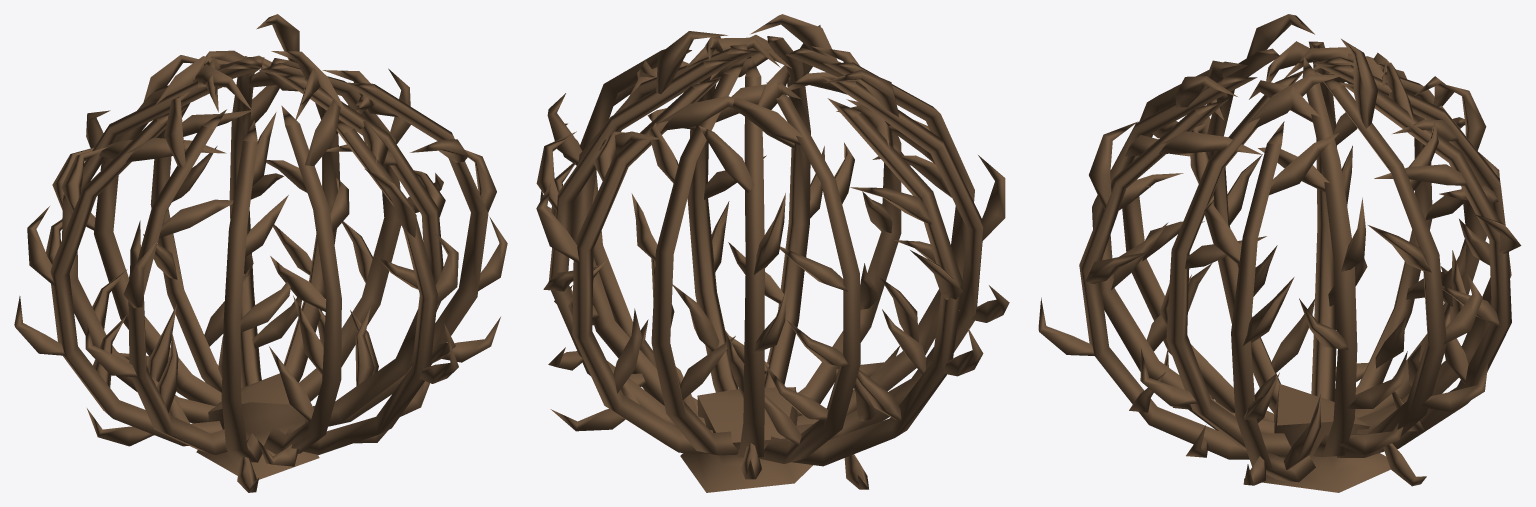
Rendered from SMFol_ThistleBush.fbx.
3 views of the same model, side by side, from view 1: azimuth 30°, elevation 25°; view 2: azimuth 150°, elevation 25°; view 3: azimuth 270°, elevation 25° (orthographic). The views are drawn at different scales.
Visible parts, largest first — view 1: LOD0; view 2: LOD0; view 3: LOD0.
Boxes of the visible parts, <box> form: LOD0: <box>14,14,507,492</box>; LOD0: <box>536,14,1009,492</box>; LOD0: <box>1038,14,1521,492</box>.
Bounding box in the file's own units: 284 × 244 × 247.
